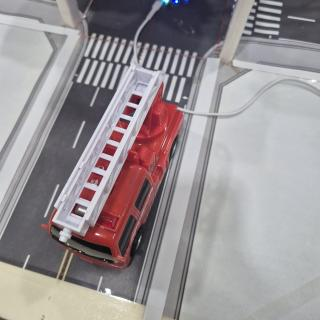Fire_truck: (42, 64, 182, 269)
